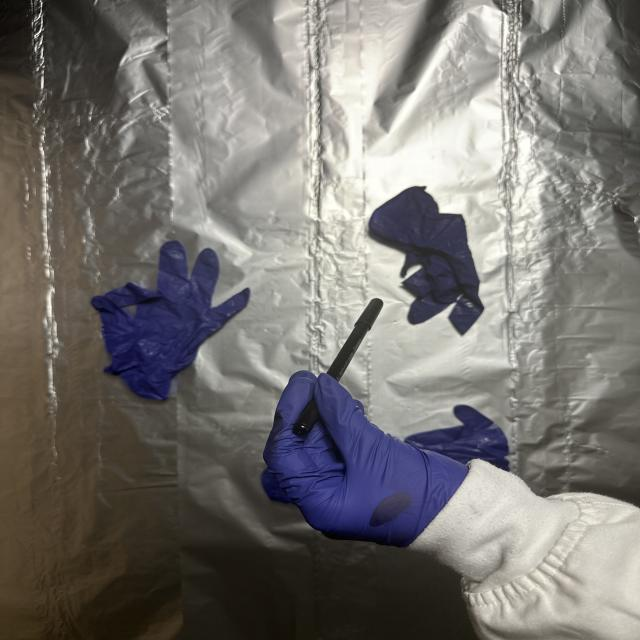gloves_contaminated: (263, 371, 468, 547)
